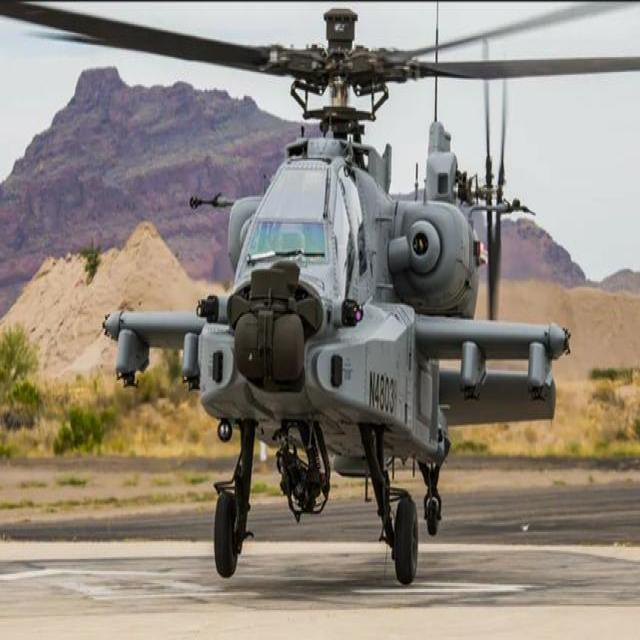MIL_HELO: (0, 4, 635, 598)
